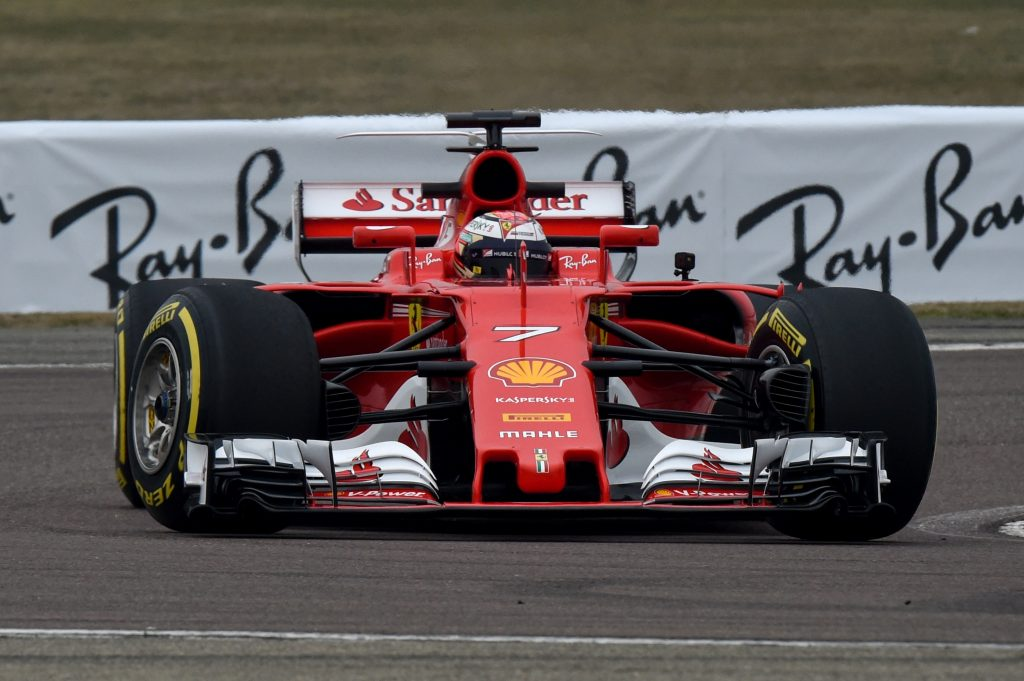f1_car: (95, 101, 952, 559)
